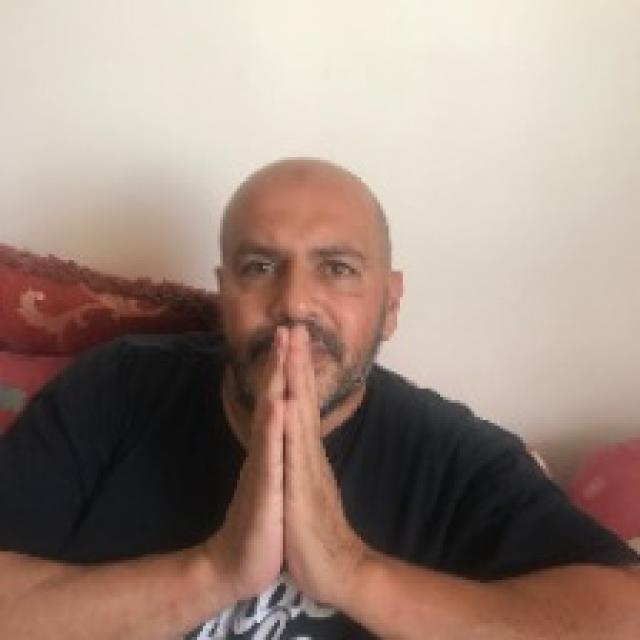sorry: (212, 322, 354, 602)
